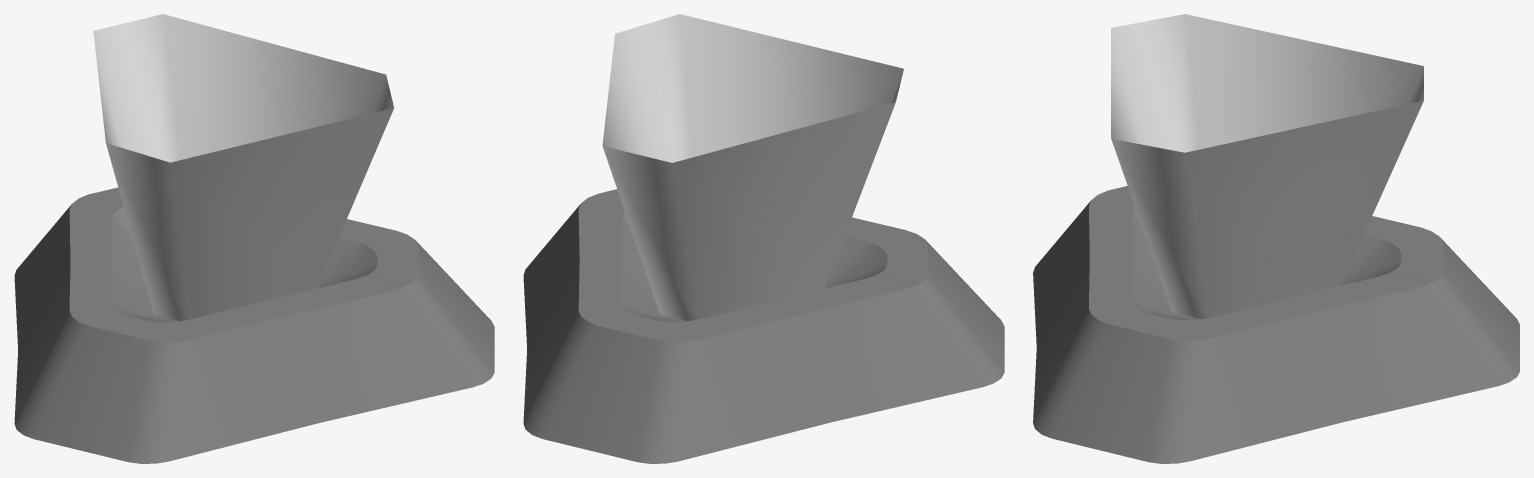
The model's file is q-scifi-mod-prop-itemholder.glb.
3 renders of one model, left to right at view 1: azimuth 30°, elevation 25°; view 2: azimuth 150°, elevation 25°; view 3: azimuth 270°, elevation 25°, orthographic.
Visible parts, largest first — view 1: Prop_ItemHolder; view 2: Prop_ItemHolder; view 3: Prop_ItemHolder.
Part boxes in pixels (bbox=[...]): Prop_ItemHolder: bbox=[14, 14, 494, 463]; Prop_ItemHolder: bbox=[523, 14, 1004, 463]; Prop_ItemHolder: bbox=[1033, 14, 1519, 463].
Size of the model in its own units: 0.8186 by 0.4358 by 0.7267.
Materials: 3 (2 with a texture image).
